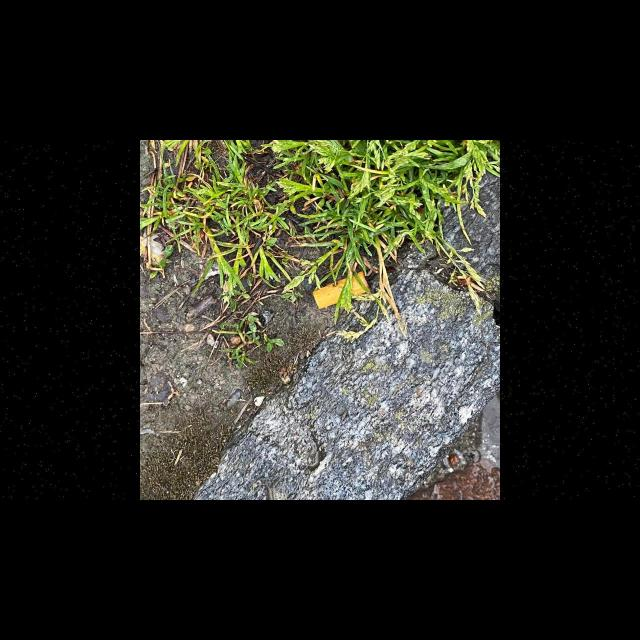cigarette: (312, 270, 372, 309)
